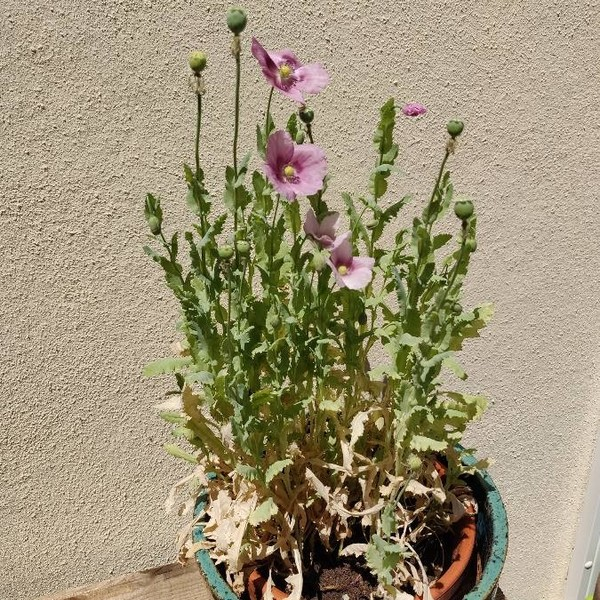obstacle: (147, 29, 502, 591)
